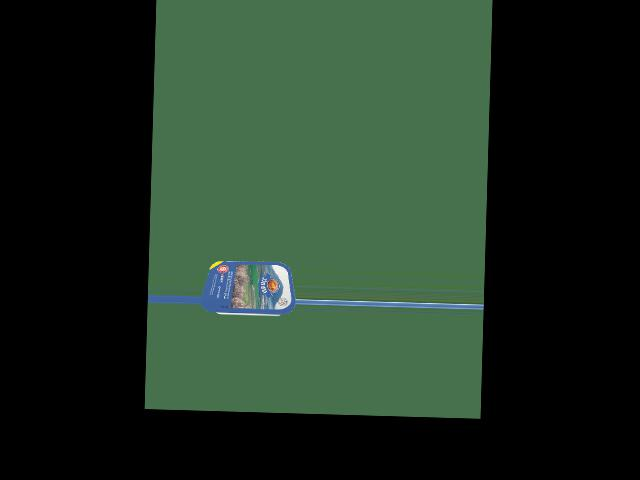cheese: (210, 257, 289, 322)
